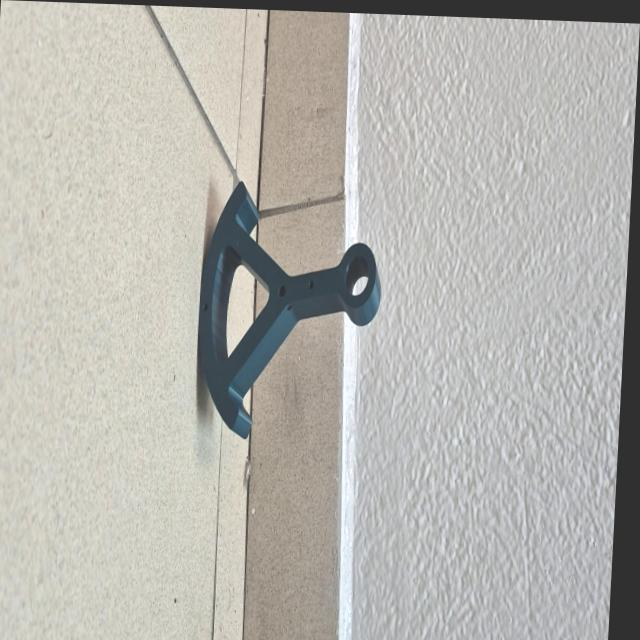haptic: (191, 177, 387, 446)
